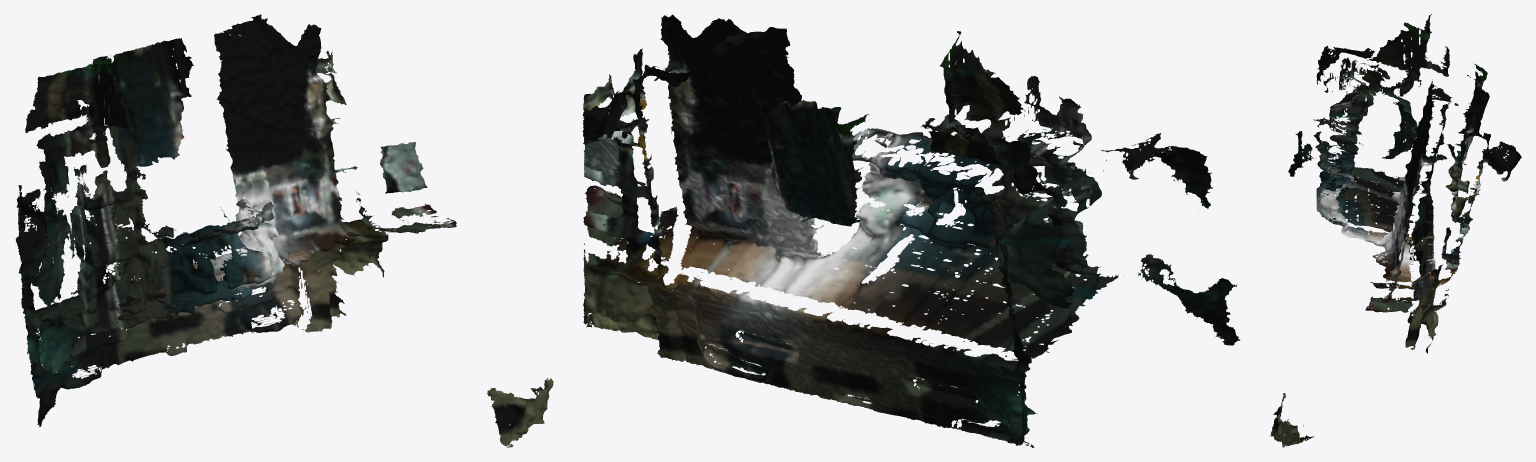
Rendered from color_model_f009_20251226_162901.obj.
The picture shows the model from 3 angles, left to right: view 1: azimuth 30°, elevation 25°; view 2: azimuth 150°, elevation 25°; view 3: azimuth 270°, elevation 25°; orthographic projection. The views are drawn at different scales.
Bounding box in the file's own units: 3.69 × 2.68 × 2.05.
